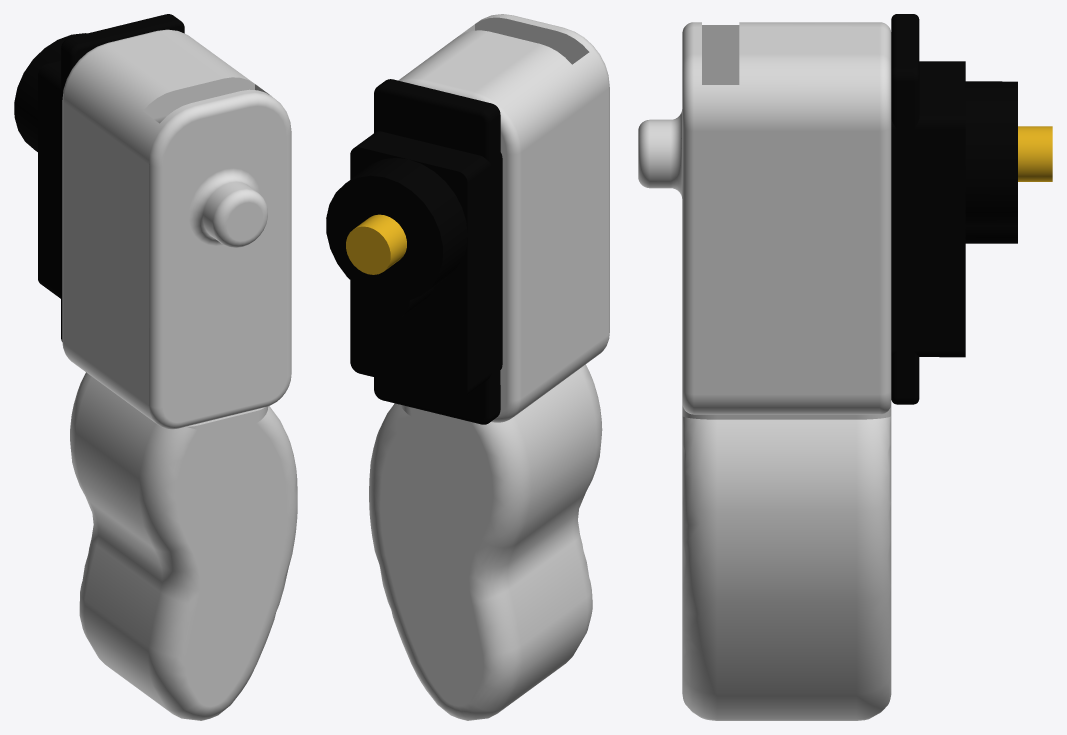
Rendered from HND.gltf.
3 views of the same model, side by side, from view 1: azimuth 30°, elevation 25°; view 2: azimuth 150°, elevation 25°; view 3: azimuth 270°, elevation 25° (orthographic). The views are drawn at different scales.
Parts seen in each view (by area): view 1: Body009001, Body; view 2: Body009001, Body; view 3: Body009001, Body.
Boxes of the visible parts, x1,y1,x2,y2 form: Body009001: (62, 29, 297, 720); Body: (14, 14, 184, 341); Body009001: (369, 14, 609, 720); Body: (326, 79, 502, 424); Body009001: (638, 22, 891, 720); Body: (891, 14, 1052, 404).
Size of the model in its own units: 0.0168 by 0.0647 by 0.0357.
